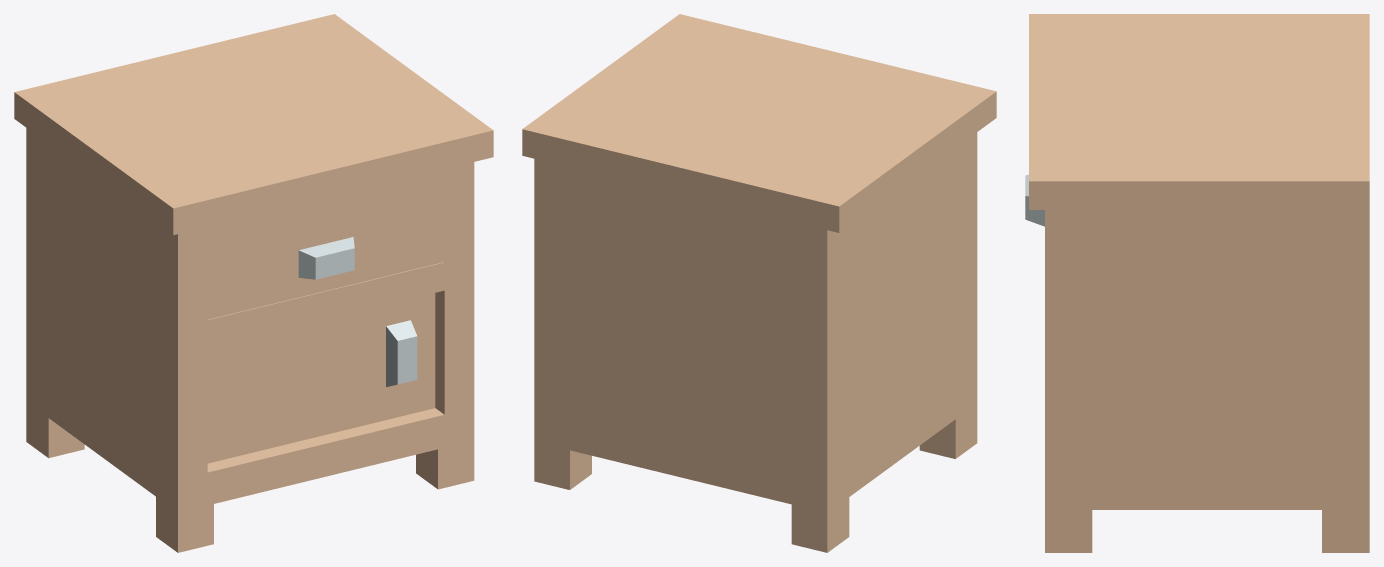
Rendered from cabinetBedDrawer-alt-col.glb.
3 views of the same model, side by side, from view 1: azimuth 30°, elevation 25°; view 2: azimuth 150°, elevation 25°; view 3: azimuth 270°, elevation 25° (orthographic). The views are drawn at different scales.
Parts seen in each view (by area): view 1: cabinetBedDrawer-alt-col; view 2: cabinetBedDrawer-alt-col; view 3: cabinetBedDrawer-alt-col.
Boxes of the visible parts, x1,y1,x2,y2 form: cabinetBedDrawer-alt-col: (14,14,493,552); cabinetBedDrawer-alt-col: (522,14,996,552); cabinetBedDrawer-alt-col: (1025,14,1369,552).
Size of the model in its own units: 0.25 by 0.2632 by 0.2173.
